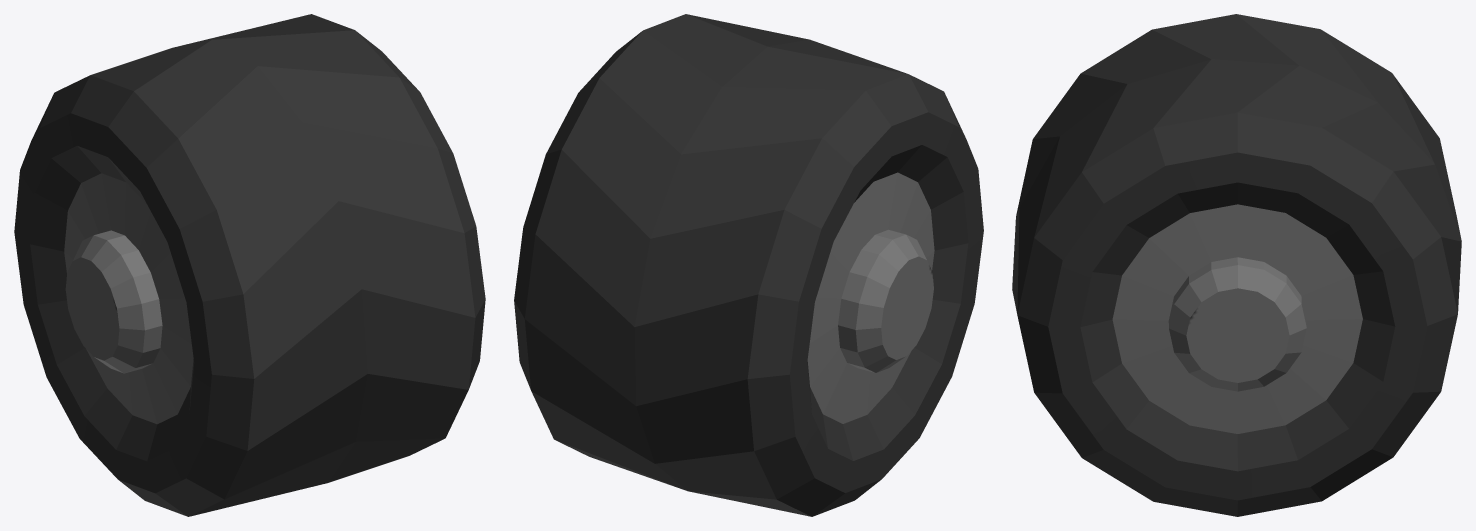
File: tire.gltf
3 views of the same model, side by side, from view 1: azimuth 30°, elevation 25°; view 2: azimuth 150°, elevation 25°; view 3: azimuth 270°, elevation 25° (orthographic). The views are drawn at different scales.
Parts seen in each view (by area): view 1: Front Tire; view 2: Front Tire; view 3: Front Tire.
Part boxes in pixels (<box>): Front Tire: <box>14,14,485,516</box>; Front Tire: <box>514,14,983,516</box>; Front Tire: <box>1012,14,1461,516</box>.
Size of the model in its own units: 1.27 by 1.6 by 1.6.
1 material, 1 textured.
